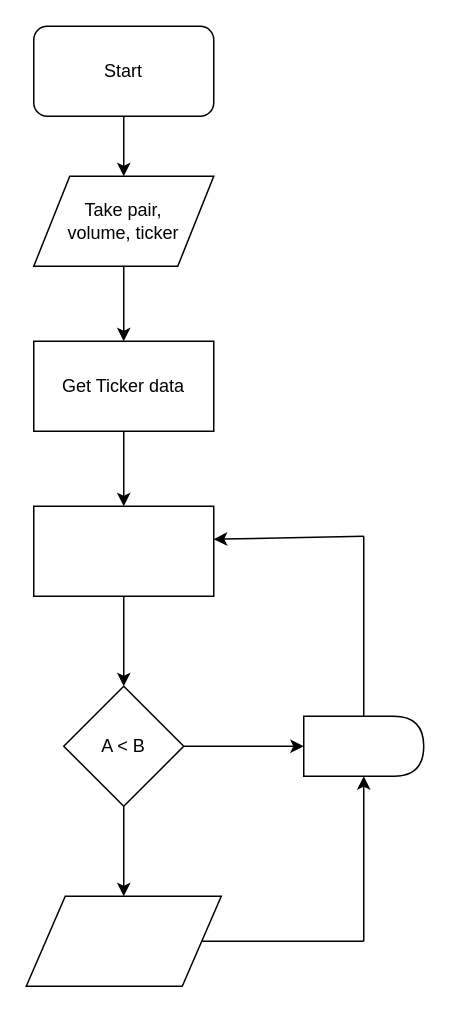
The diagram is 450 pixels wide and 1013 high, and some of its shapes have lost their labels. Each missing label, with the centre of its shape:
B = price - offset: the point at 123,550
Replace order with stop price B: the point at 123,940
